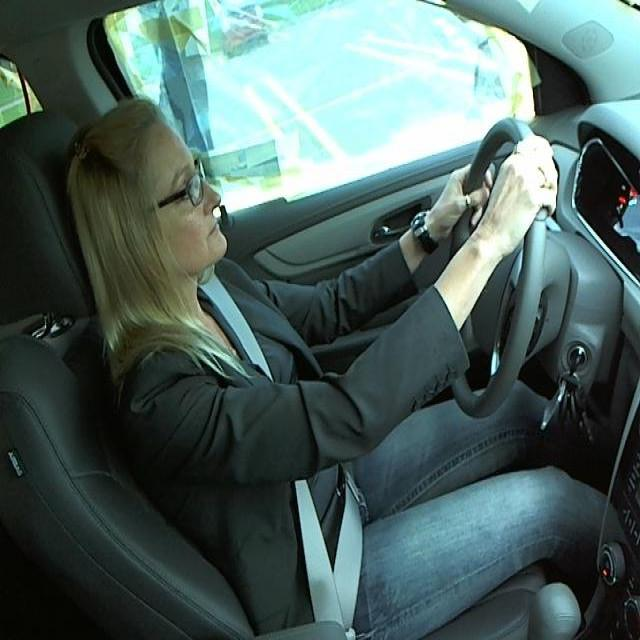without_using_phone: (30, 80, 239, 325)
